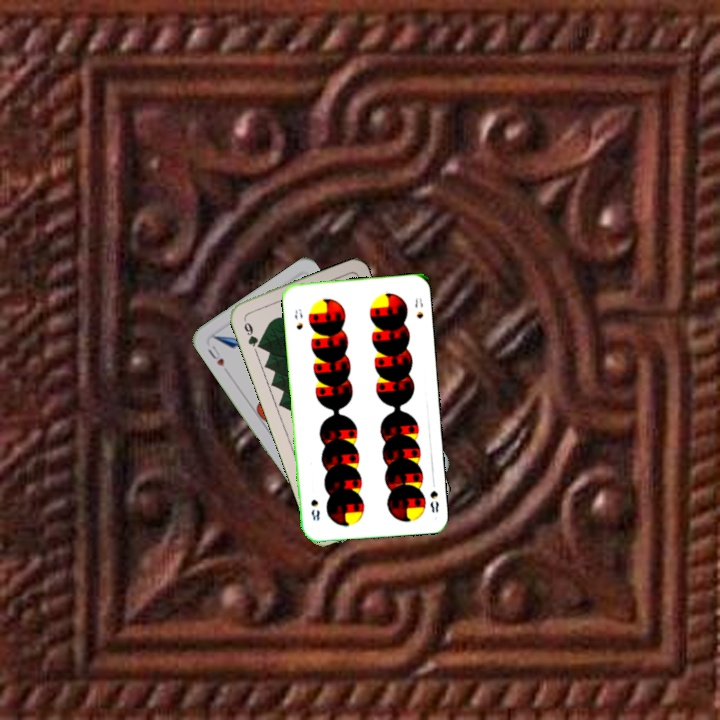G9: (239, 314, 264, 354)
HU: (203, 341, 227, 369)
S8: (426, 476, 441, 515), (290, 305, 305, 332)
